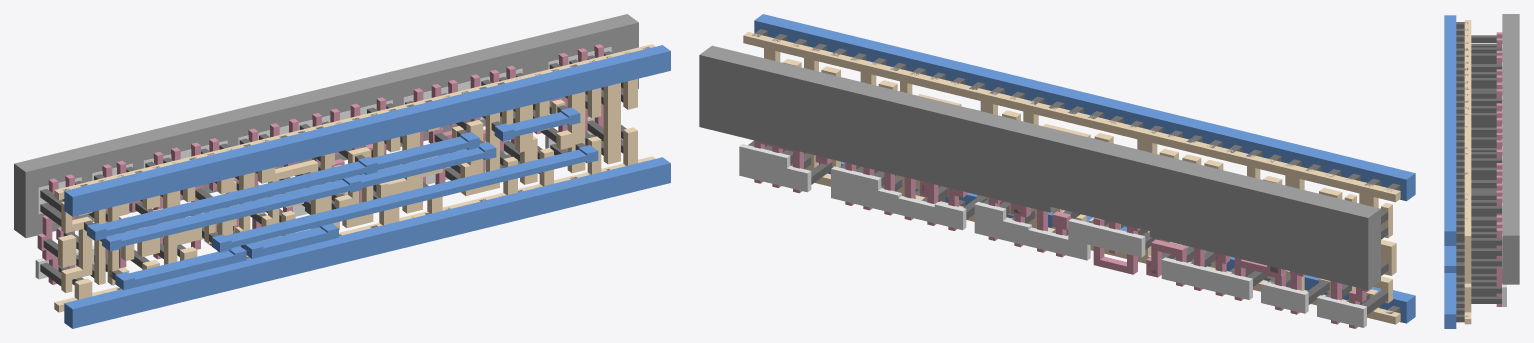
The model's file is sky130_fd_sc_hd__sedfxbp_2.gds.gltf.
The picture shows the model from 3 angles, left to right: view 1: azimuth 30°, elevation 25°; view 2: azimuth 150°, elevation 25°; view 3: azimuth 270°, elevation 25°; orthographic projection. The views are drawn at different scales.
Parts seen in each view (by area): view 1: sky130_fd_sc_hd__sedfxbp_2_met1, sky130_fd_sc_hd__sedfxbp_2_li1, sky130_fd_sc_hd__sedfxbp_2_nwell, sky130_fd_sc_hd__sedfxbp_2_poly, sky130_fd_sc_hd__sedfxbp_2_licon, sky130_fd_sc_hd__sedfxbp_2_diff, sky130_fd_sc_hd__sedfxbp_2_mcon; view 2: sky130_fd_sc_hd__sedfxbp_2_nwell, sky130_fd_sc_hd__sedfxbp_2_li1, sky130_fd_sc_hd__sedfxbp_2_diff, sky130_fd_sc_hd__sedfxbp_2_met1, sky130_fd_sc_hd__sedfxbp_2_poly, sky130_fd_sc_hd__sedfxbp_2_licon, sky130_fd_sc_hd__sedfxbp_2_mcon; view 3: sky130_fd_sc_hd__sedfxbp_2_licon, sky130_fd_sc_hd__sedfxbp_2_nwell, sky130_fd_sc_hd__sedfxbp_2_met1, sky130_fd_sc_hd__sedfxbp_2_mcon, sky130_fd_sc_hd__sedfxbp_2_li1, sky130_fd_sc_hd__sedfxbp_2_poly, sky130_fd_sc_hd__sedfxbp_2_diff.
Boxes of the visible parts, <box> form: sky130_fd_sc_hd__sedfxbp_2_met1: <box>64,45,670,328</box>; sky130_fd_sc_hd__sedfxbp_2_li1: <box>54,44,655,312</box>; sky130_fd_sc_hd__sedfxbp_2_nwell: <box>14,14,638,237</box>; sky130_fd_sc_hd__sedfxbp_2_poly: <box>37,44,603,284</box>; sky130_fd_sc_hd__sedfxbp_2_licon: <box>40,51,626,286</box>; sky130_fd_sc_hd__sedfxbp_2_diff: <box>35,47,611,279</box>; sky130_fd_sc_hd__sedfxbp_2_mcon: <box>62,47,649,302</box>; sky130_fd_sc_hd__sedfxbp_2_nwell: <box>699,45,1380,289</box>; sky130_fd_sc_hd__sedfxbp_2_li1: <box>743,32,1400,324</box>; sky130_fd_sc_hd__sedfxbp_2_diff: <box>739,144,1366,327</box>; sky130_fd_sc_hd__sedfxbp_2_met1: <box>754,14,1415,323</box>; sky130_fd_sc_hd__sedfxbp_2_poly: <box>754,140,1371,328</box>; sky130_fd_sc_hd__sedfxbp_2_licon: <box>748,72,1388,314</box>; sky130_fd_sc_hd__sedfxbp_2_mcon: <box>752,29,1400,313</box>; sky130_fd_sc_hd__sedfxbp_2_licon: <box>1471,35,1501,303</box>; sky130_fd_sc_hd__sedfxbp_2_nwell: <box>1502,14,1519,284</box>; sky130_fd_sc_hd__sedfxbp_2_met1: <box>1444,15,1456,328</box>; sky130_fd_sc_hd__sedfxbp_2_mcon: <box>1456,22,1468,322</box>; sky130_fd_sc_hd__sedfxbp_2_li1: <box>1464,20,1471,324</box>; sky130_fd_sc_hd__sedfxbp_2_poly: <box>1496,32,1502,306</box>; sky130_fd_sc_hd__sedfxbp_2_diff: <box>1502,44,1506,306</box>.
Size of the model in its own units: 15.56 by 3.2 by 2.24.
